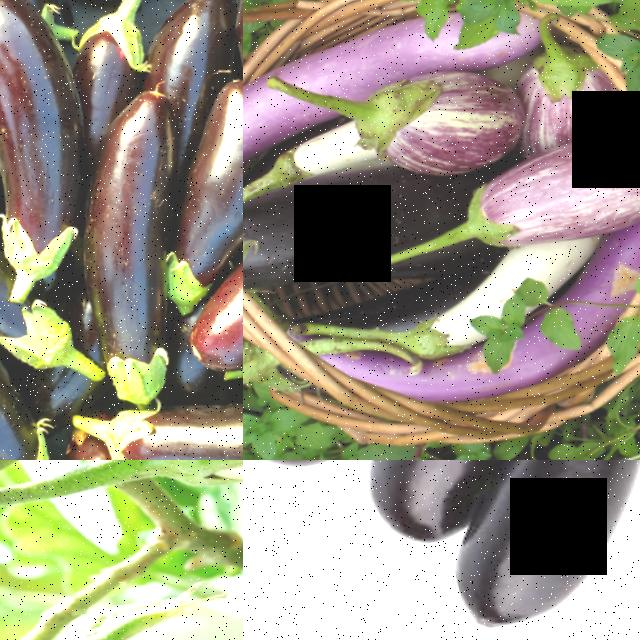eggplant: (392, 460, 640, 638), (243, 167, 466, 314), (0, 0, 109, 285), (52, 173, 182, 406), (444, 135, 640, 266), (349, 63, 526, 194), (24, 549, 243, 640), (97, 349, 243, 460), (154, 77, 243, 250), (158, 217, 243, 384), (53, 4, 163, 127), (502, 50, 625, 157)
